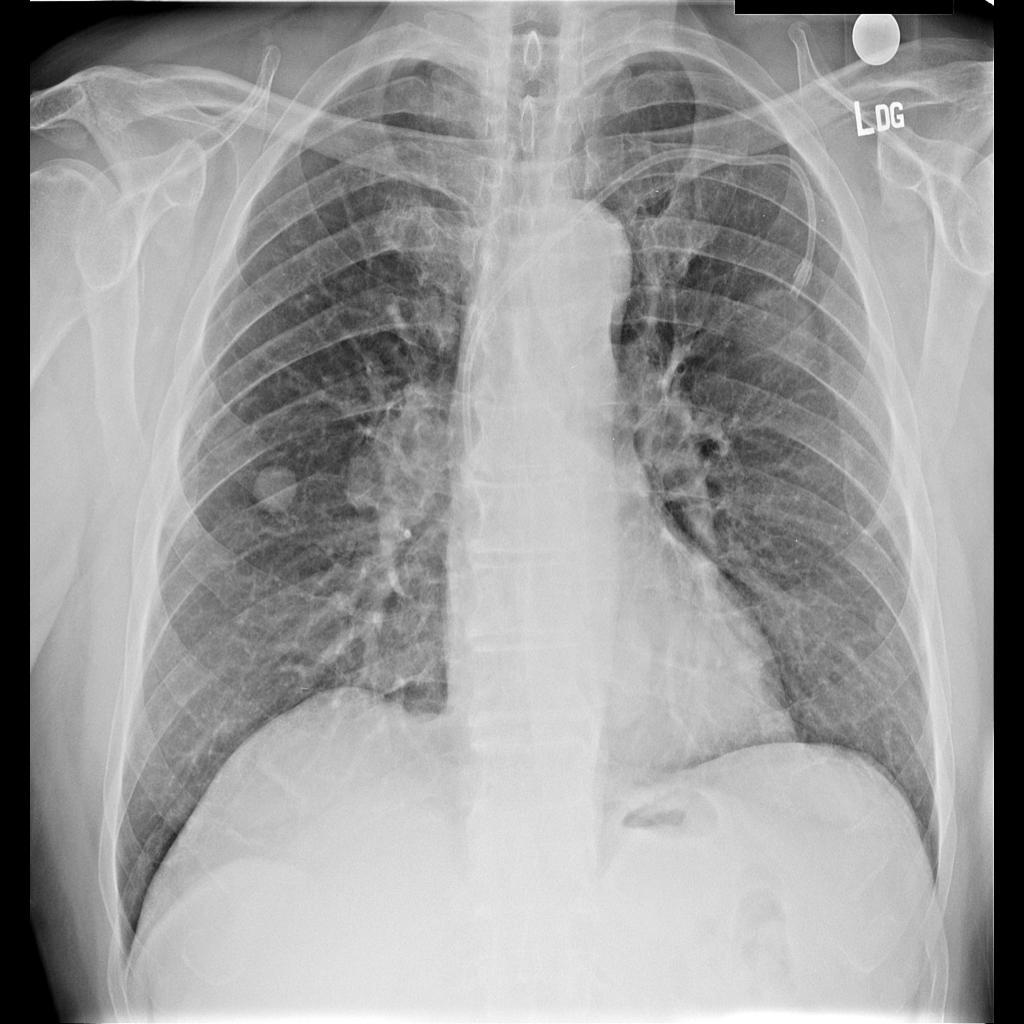Nodule: (739, 287, 813, 385), (253, 463, 307, 521)
